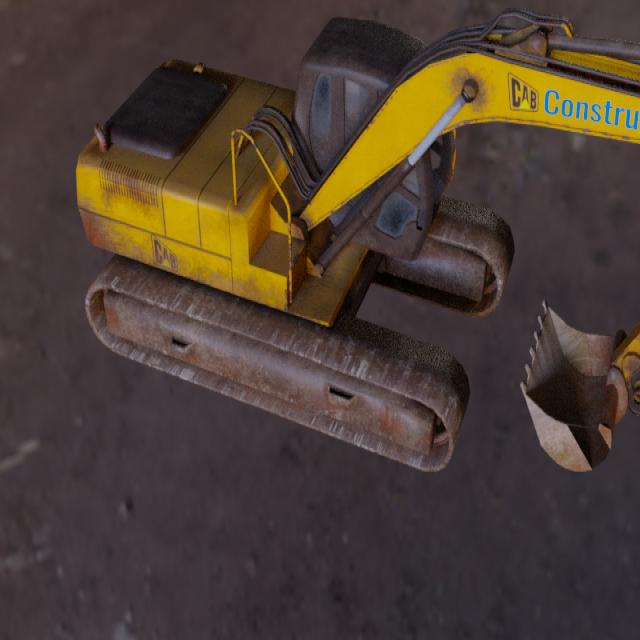excavator: (75, 7, 640, 472)
